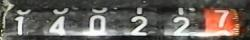digits: (128, 15, 148, 35), (48, 15, 66, 36), (172, 16, 190, 33), (88, 15, 106, 32), (213, 10, 229, 28), (14, 16, 24, 35)
